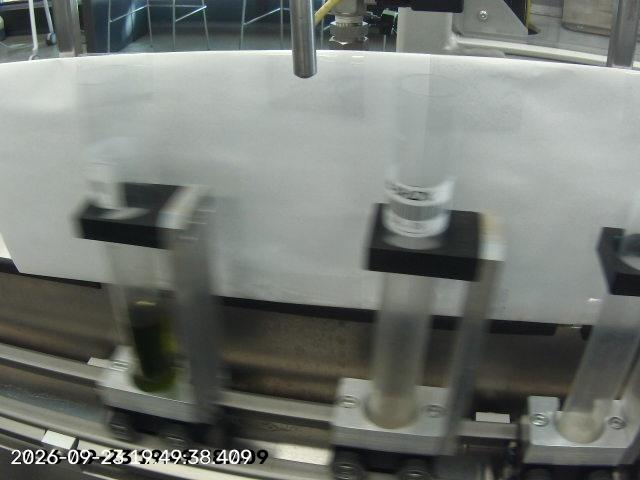vial: (53, 51, 213, 410), (354, 57, 488, 435)
